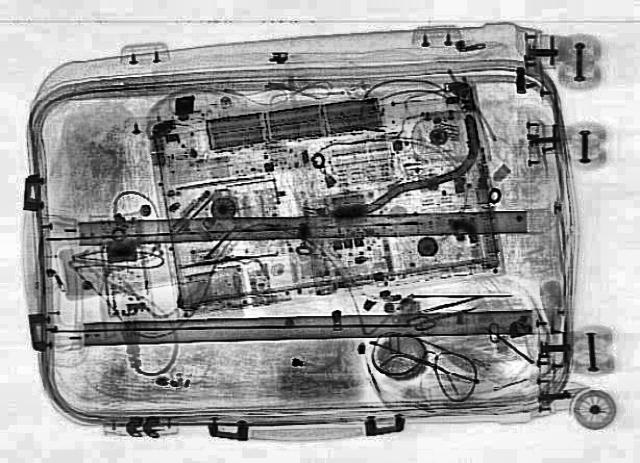Scissors: (405, 299, 479, 333)
